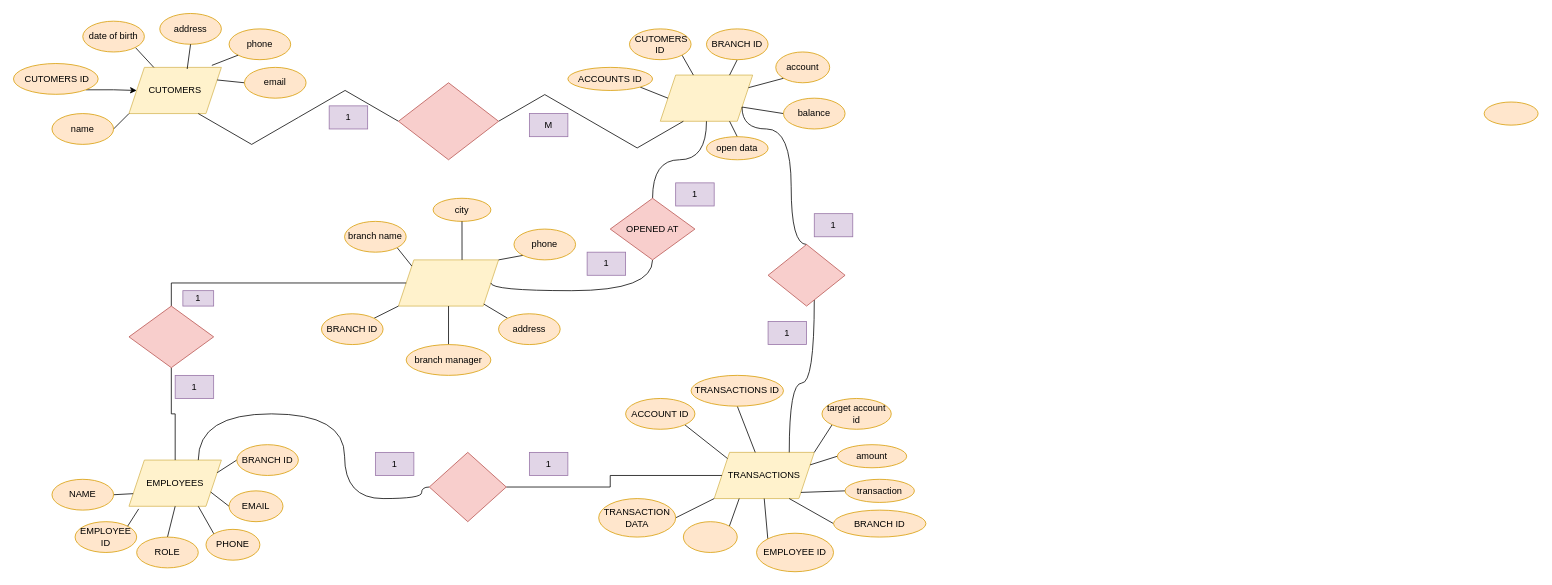
The diagram is 1552 pixels wide and 585 high, and some of its shapes have lost their labels. Here are the shapes that lost their labels. From the top down, the centre of each, then its label:
[706,97]: ACCOUNTS
[448,121]: HAS
[448,282]: BRANCHES
[806,275]: PERFORMS
[171,336]: EMPLOYS
[467,487]: PROCESSES
[710,536]: status
